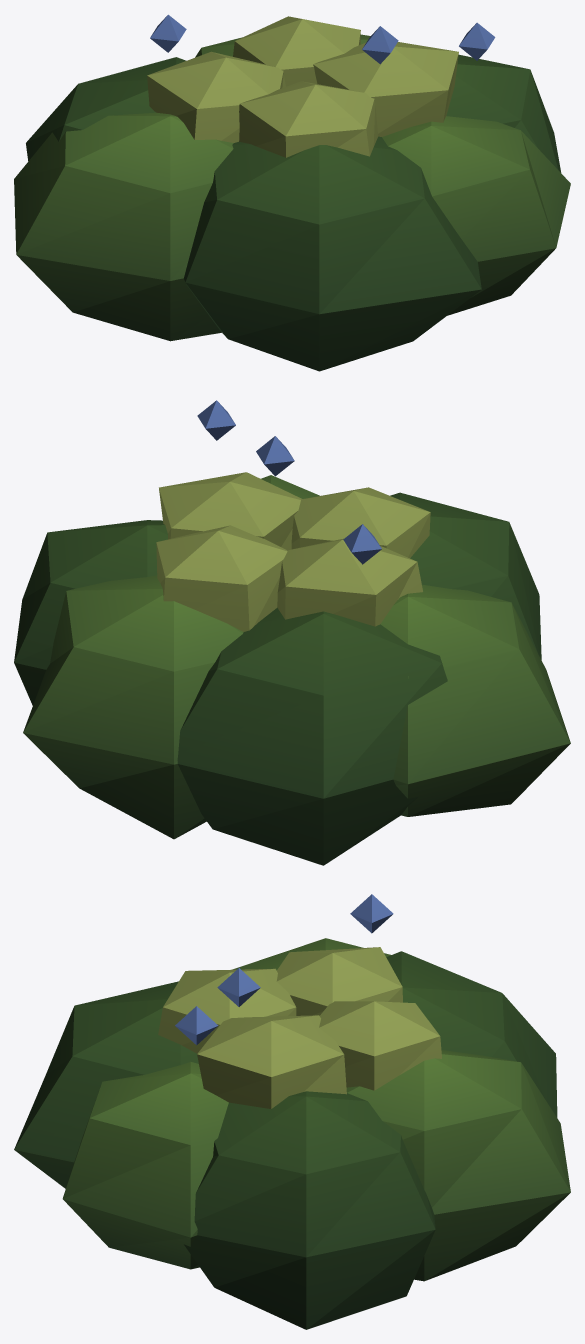
File: fern_bush.glb
The picture shows the model from 3 angles, top to bottom: view 1: azimuth 30°, elevation 25°; view 2: azimuth 150°, elevation 25°; view 3: azimuth 270°, elevation 25°; orthographic projection. The views are drawn at different scales.
Visible parts, largest first — view 1: fern_bush; view 2: fern_bush; view 3: fern_bush.
Boxes of the visible parts, box(x1,y1,x2,y2) form: fern_bush: box(14, 14, 570, 371); fern_bush: box(14, 400, 570, 865); fern_bush: box(14, 894, 570, 1329).
Size of the model in its own units: 1.43 by 0.75 by 1.27.
